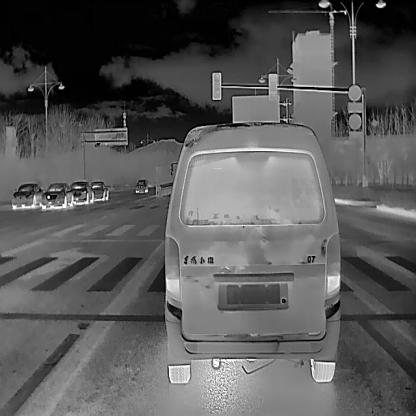car: (164, 121, 340, 384), (11, 178, 42, 206), (42, 180, 72, 208), (70, 179, 94, 203), (92, 180, 109, 198), (134, 177, 147, 192)
